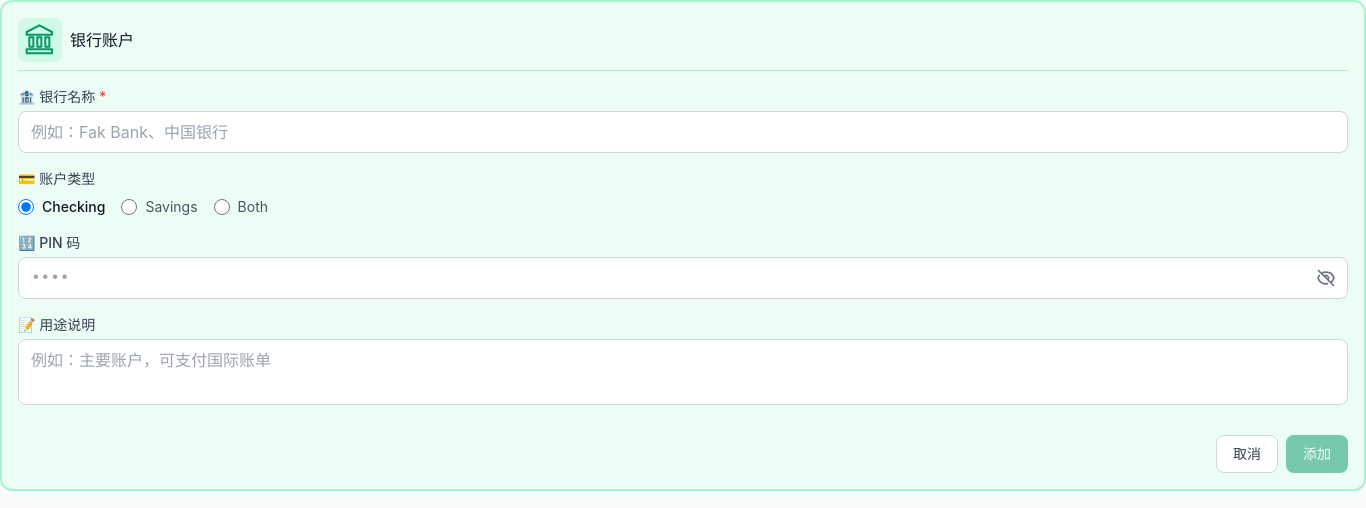
Test: BankAccountCardForm › Form Submission › should enable submit button when bank name is provided
Step 1. Type "Test Bank" into the field with test id "bank-name-input" → [683, 132], box [18, 111, 1348, 153]
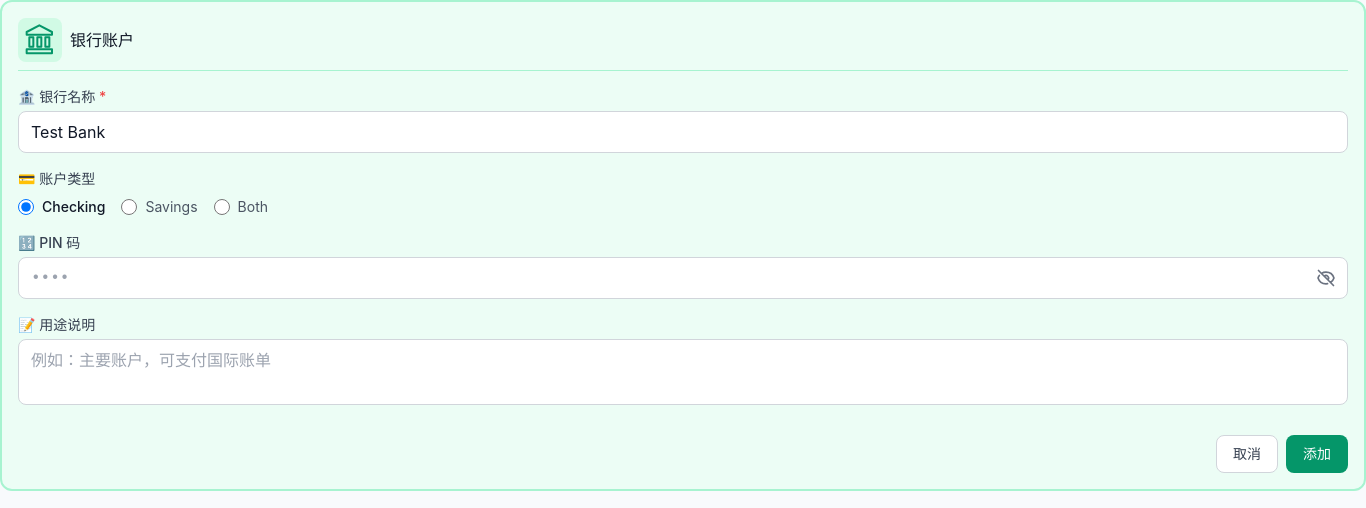
expect the button with test id "bank-submit-button" is enabled: met, box [1286, 435, 1348, 473]
